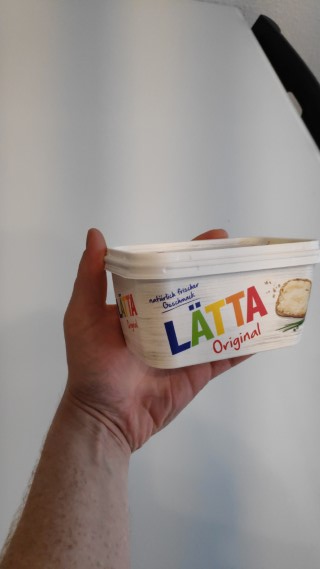laetta: (103, 234, 320, 369)
